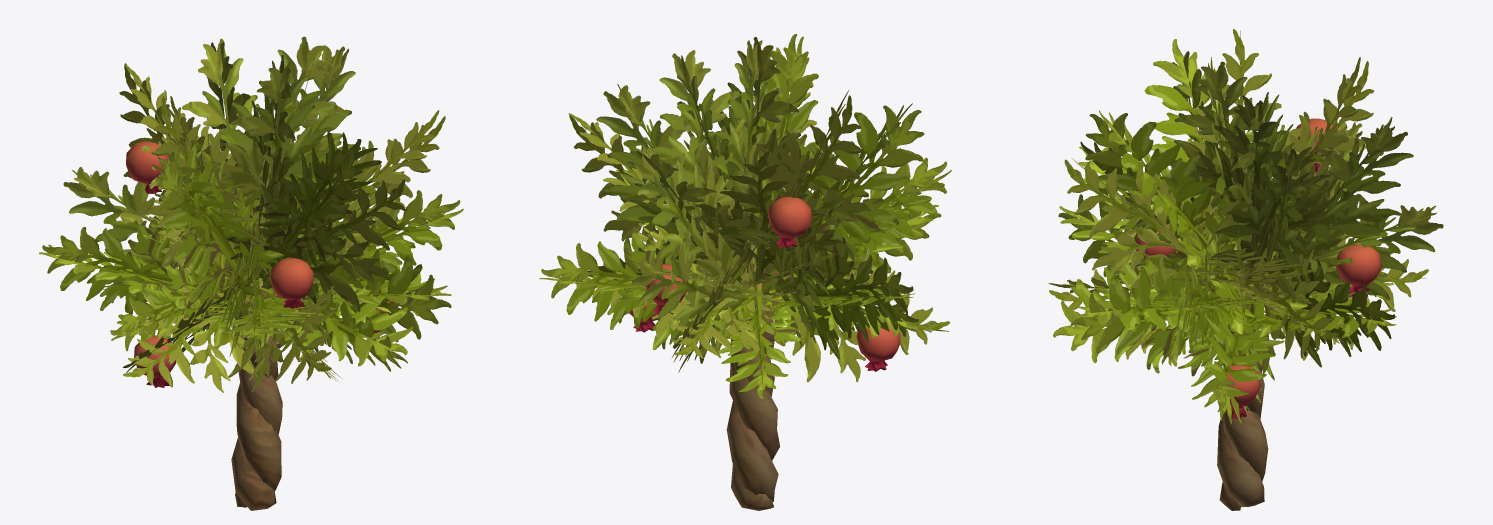
The model's file is Granet_Step02.fbx.
3 renders of one model, left to right at view 1: azimuth 30°, elevation 25°; view 2: azimuth 150°, elevation 25°; view 3: azimuth 270°, elevation 25°, orthographic.
Visible parts, largest first — view 1: Granet_small.004; view 2: Granet_small.004; view 3: Granet_small.004.
Boxes of the visible parts, x1=… form: Granet_small.004: x1=39, y1=36, x2=463, y2=510; Granet_small.004: x1=539, y1=34, x2=951, y2=510; Granet_small.004: x1=1049, y1=29, x2=1443, y2=510.
Size of the model in its own units: 137 by 140 by 126.
